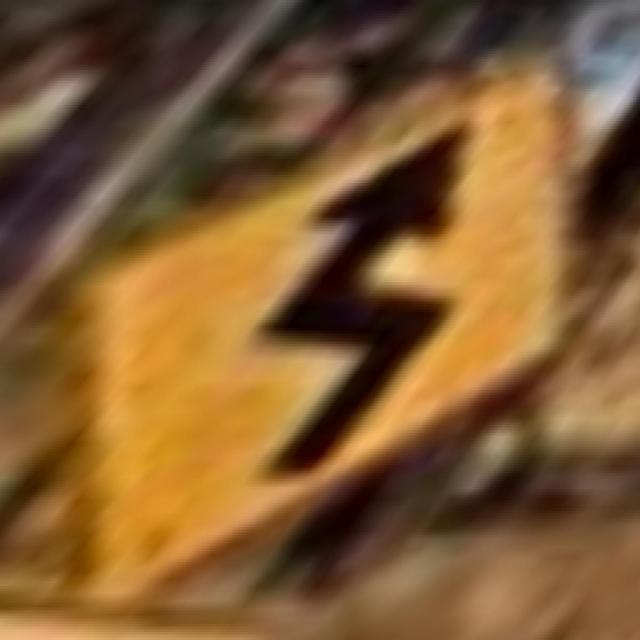Tikungan Ganda Pertama Ke Kiri: (92, 43, 567, 602)
